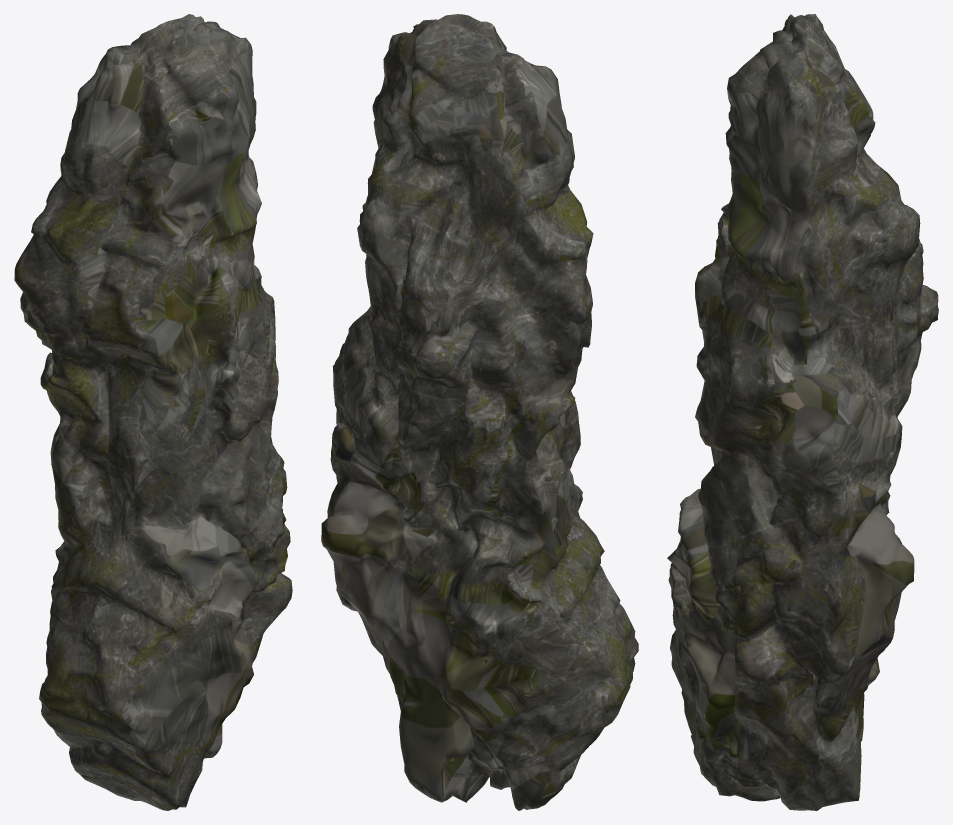
File: SM_RockWall_B.fbx
The picture shows the model from 3 angles, left to right: view 1: azimuth 30°, elevation 25°; view 2: azimuth 150°, elevation 25°; view 3: azimuth 270°, elevation 25°; orthographic projection. The views are drawn at different scales.
Parts seen in each view (by area): view 1: SM_RockWall_B_LOD0; view 2: SM_RockWall_B_LOD0; view 3: SM_RockWall_B_LOD0.
Boxes of the visible parts, x1,y1,x2,y2 form: SM_RockWall_B_LOD0: (14,14,292,810); SM_RockWall_B_LOD0: (321,14,638,810); SM_RockWall_B_LOD0: (667,14,938,810).
Size of the model in its own units: 1420 by 1241 by 4026.
